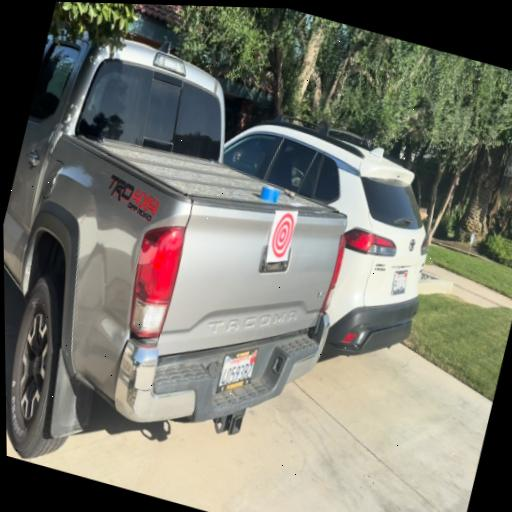bullseye: (268, 211, 298, 261)
